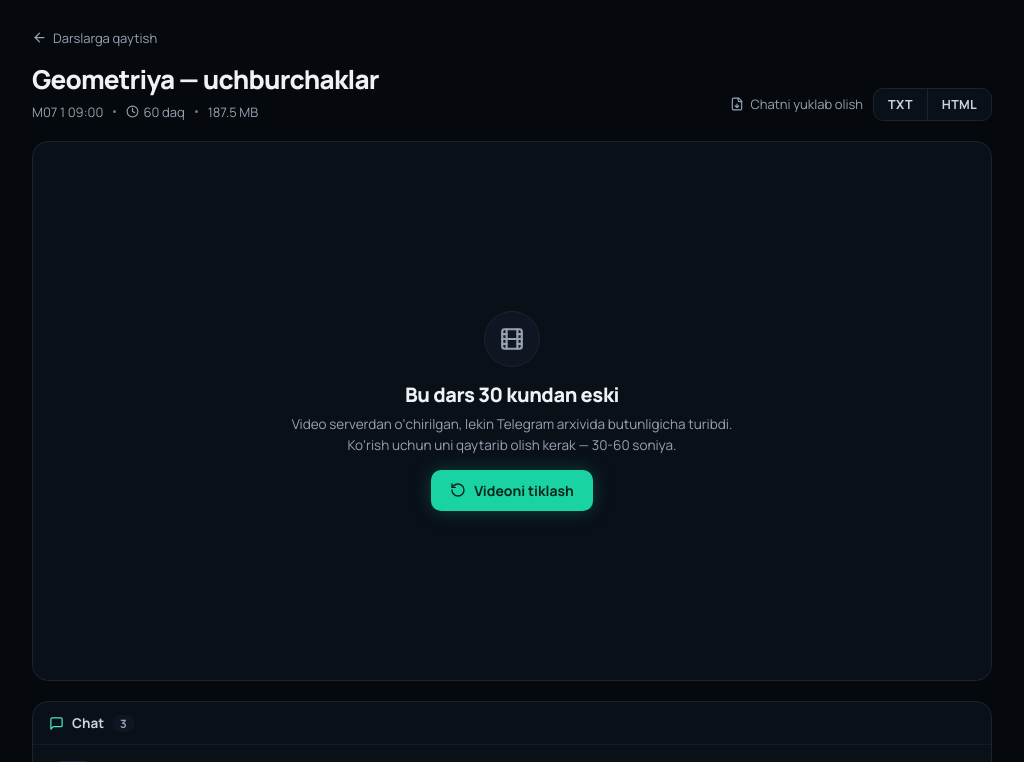
Dars arxivi — tiklash yiqilganda › sabab bo‘lmasa ham xato kartochkasi ko‘rinadi
Click the button "Videoni tiklash" at coordinates (512, 490), box [431,470,593,511]
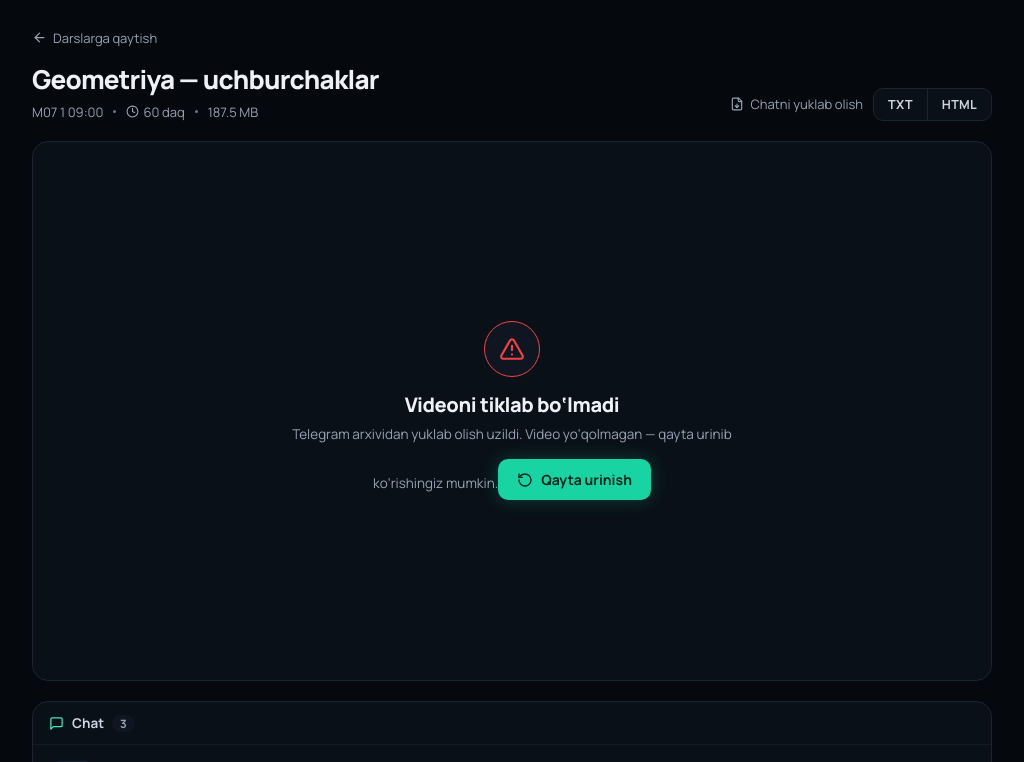
Now the heading "Videoni tiklab bo‘lmadi" is shown, box [405,392,619,418]
